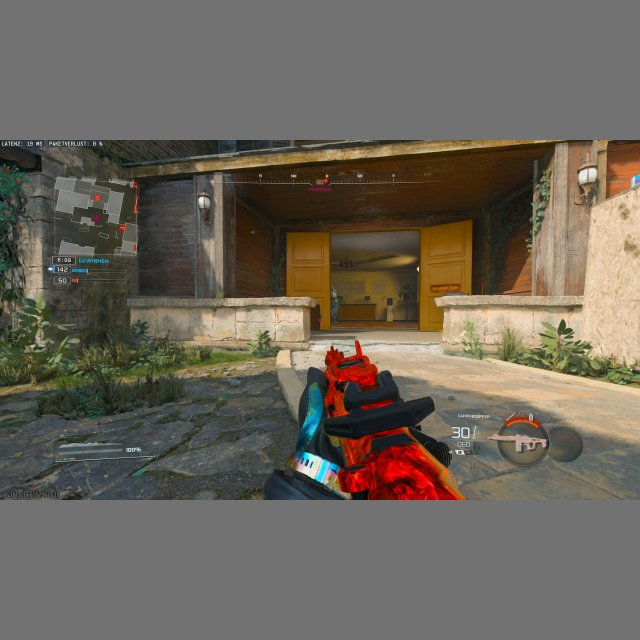player: (330, 284, 343, 324)
